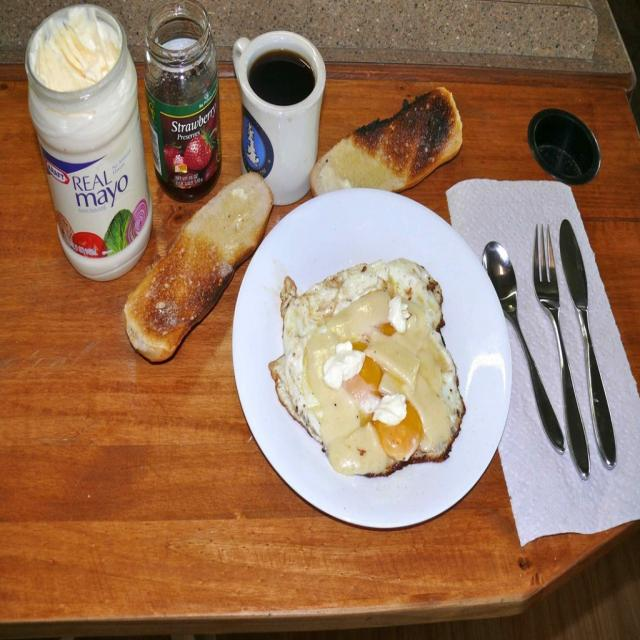Coffee: (252, 46, 316, 108)
Tea: (246, 50, 316, 106)
